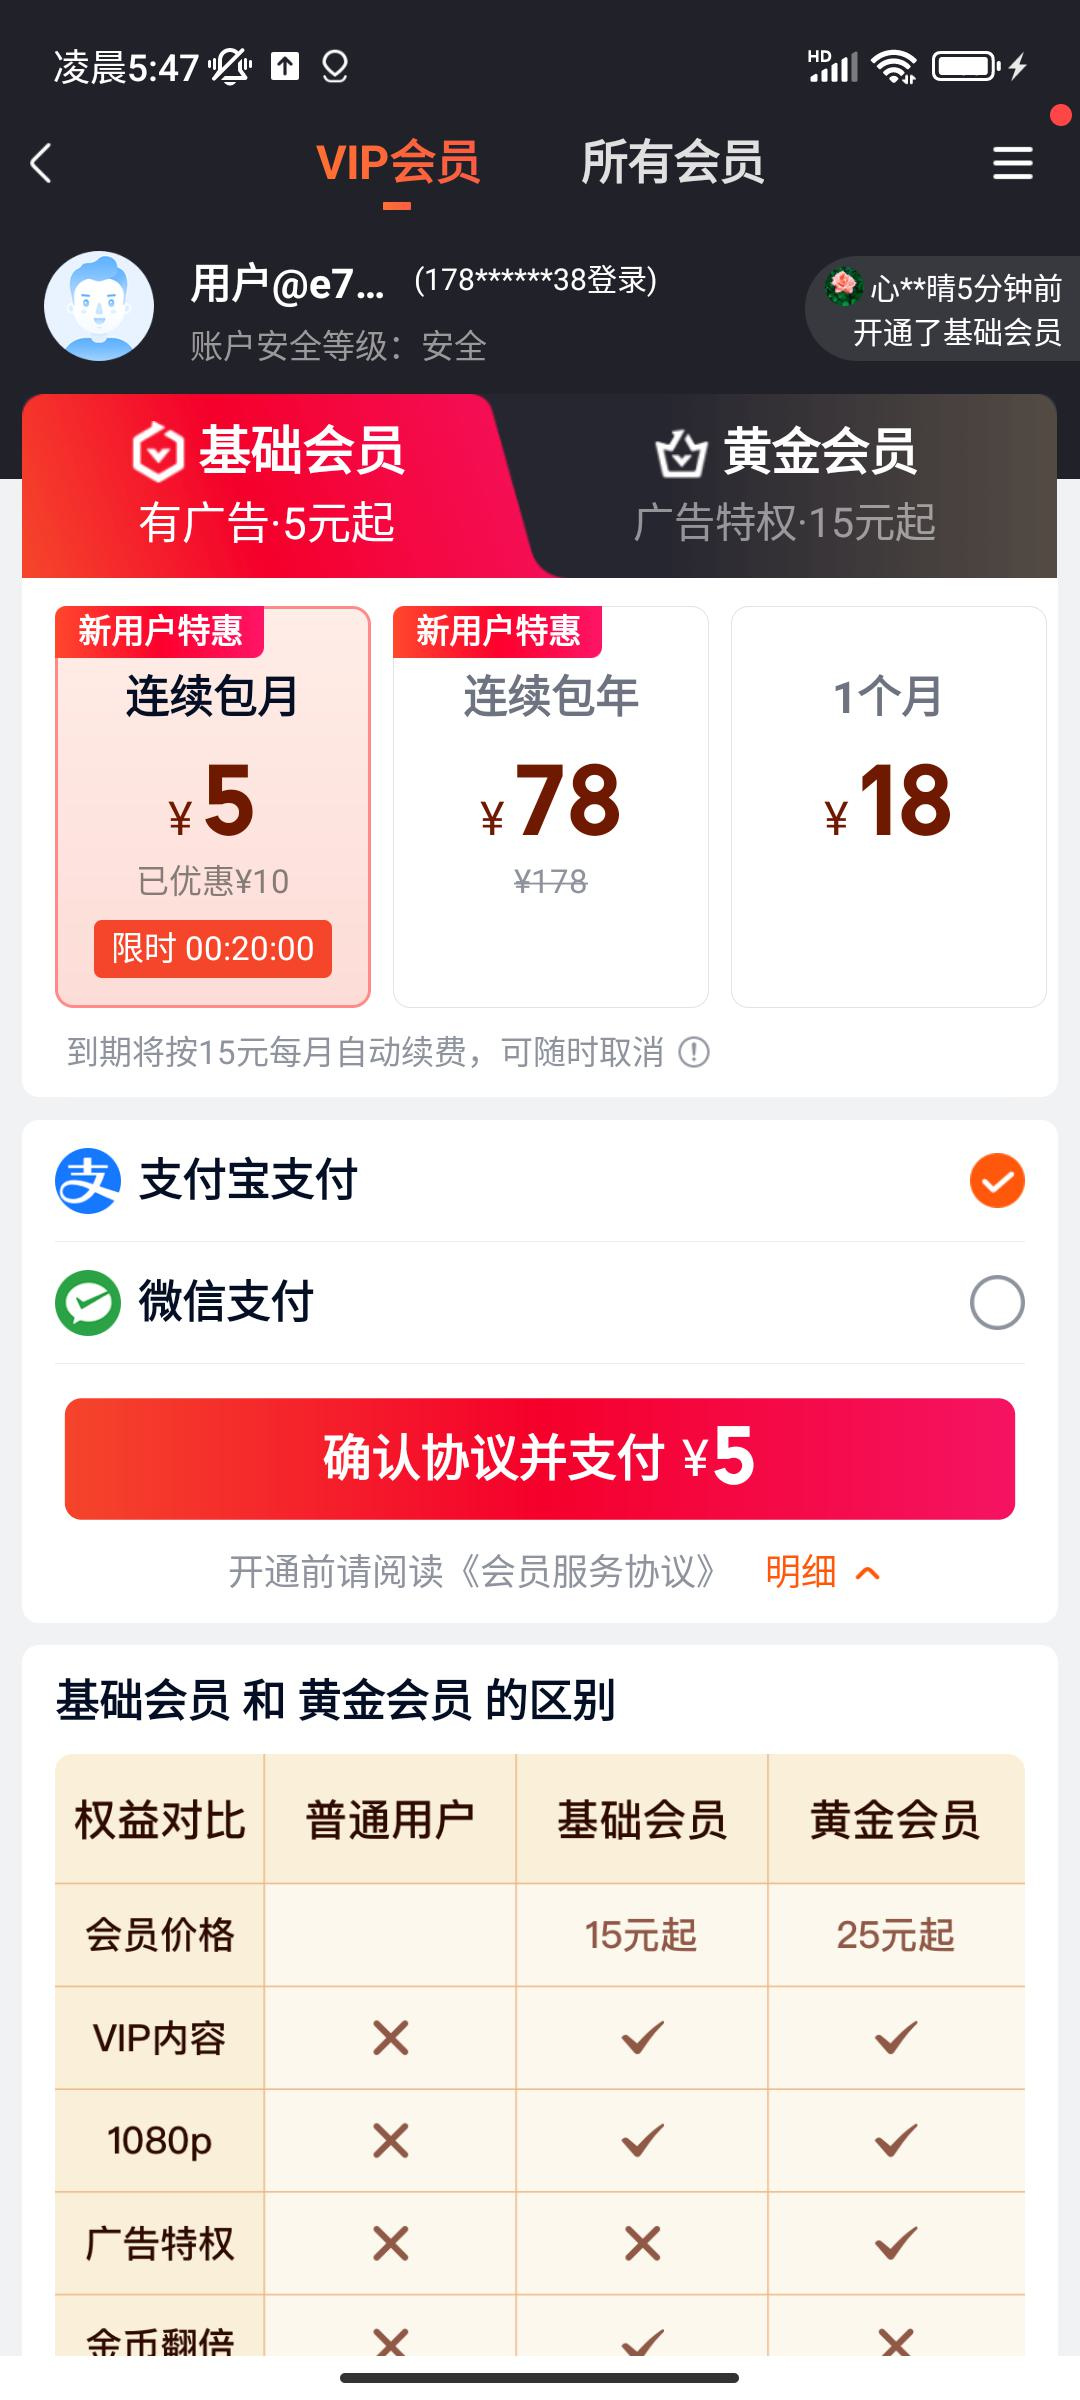ui_group: (35, 1127, 1046, 1615)
